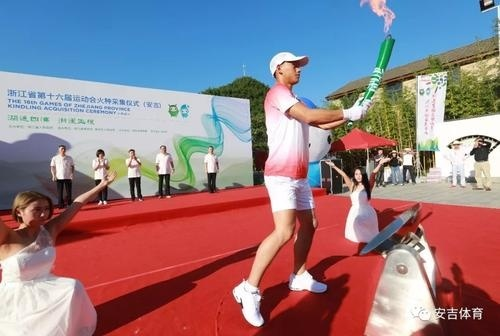fire: (365, 0, 397, 29)
